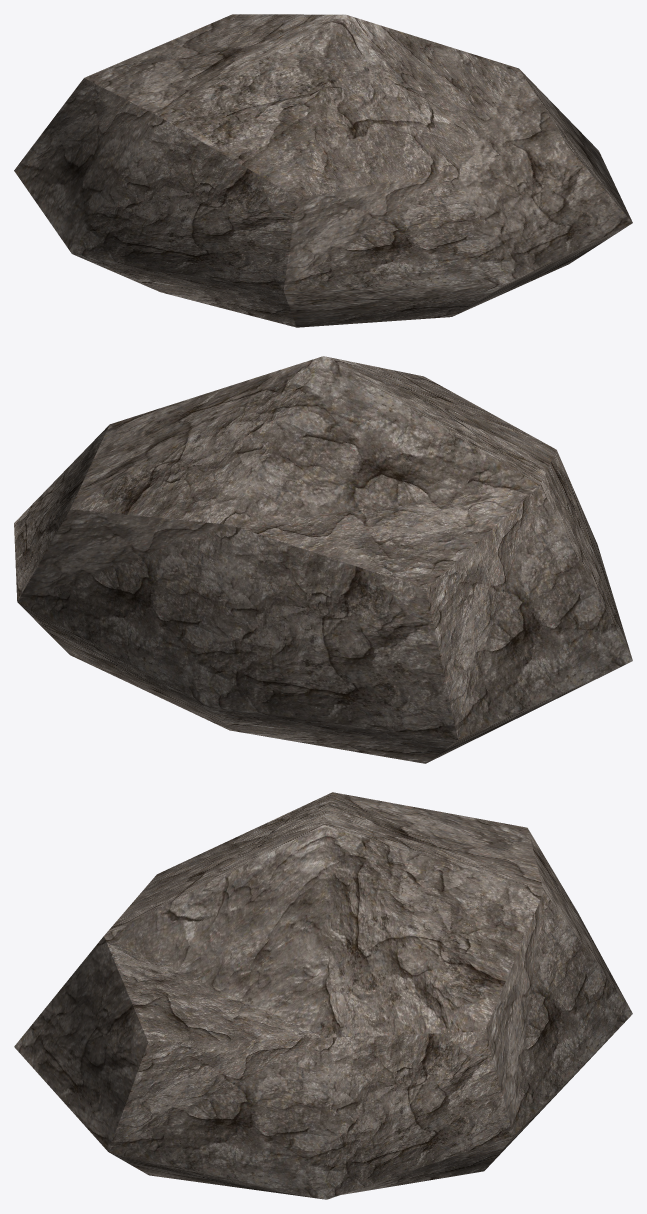
Rendered from Stone_01_T05.FBX.
3 views of the same model, one above another, from view 1: azimuth 30°, elevation 25°; view 2: azimuth 150°, elevation 25°; view 3: azimuth 270°, elevation 25° (orthographic). The views are drawn at different scales.
Parts seen in each view (by area): view 1: Box001; view 2: Box001; view 3: Box001.
Part boxes in pixels (x1=…): Box001: x1=14, y1=14, x2=632, y2=327; Box001: x1=14, y1=356, x2=632, y2=763; Box001: x1=14, y1=792, x2=632, y2=1199.
Bounding box in the file's own units: 46.24 × 21.51 × 41.32.
